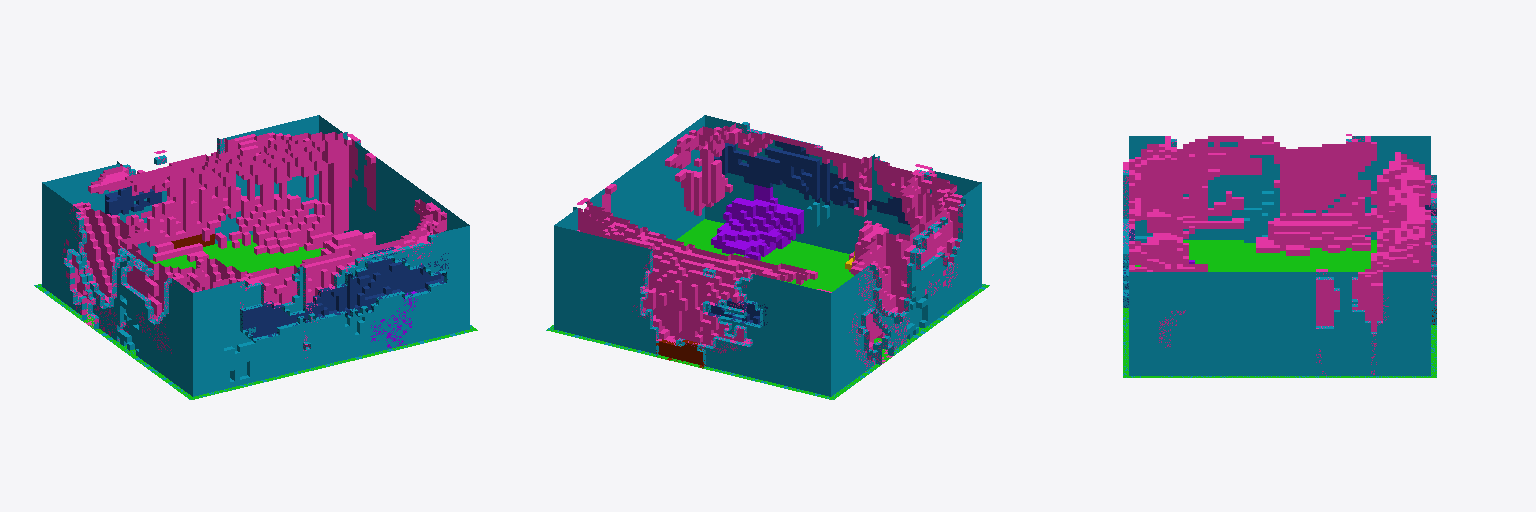
Rendered from Input_prediction.obj.
3 views of the same model, side by side, from view 1: azimuth 30°, elevation 25°; view 2: azimuth 150°, elevation 25°; view 3: azimuth 270°, elevation 25° (orthographic).
Parts seen in each view (by area): view 1: Cube; view 2: Cube; view 3: Cube.
Boxes of the visible parts, x1=… form: Cube: x1=34, y1=115, x2=477, y2=399; Cube: x1=546, y1=115, x2=989, y2=399; Cube: x1=1123, y1=134, x2=1436, y2=377.
Size of the model in its own units: 4.4 by 1.52 by 4.16.